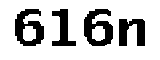1: (49, 6, 80, 50)
6: (9, 5, 47, 50), (82, 6, 115, 51)
n: (116, 15, 151, 51)
